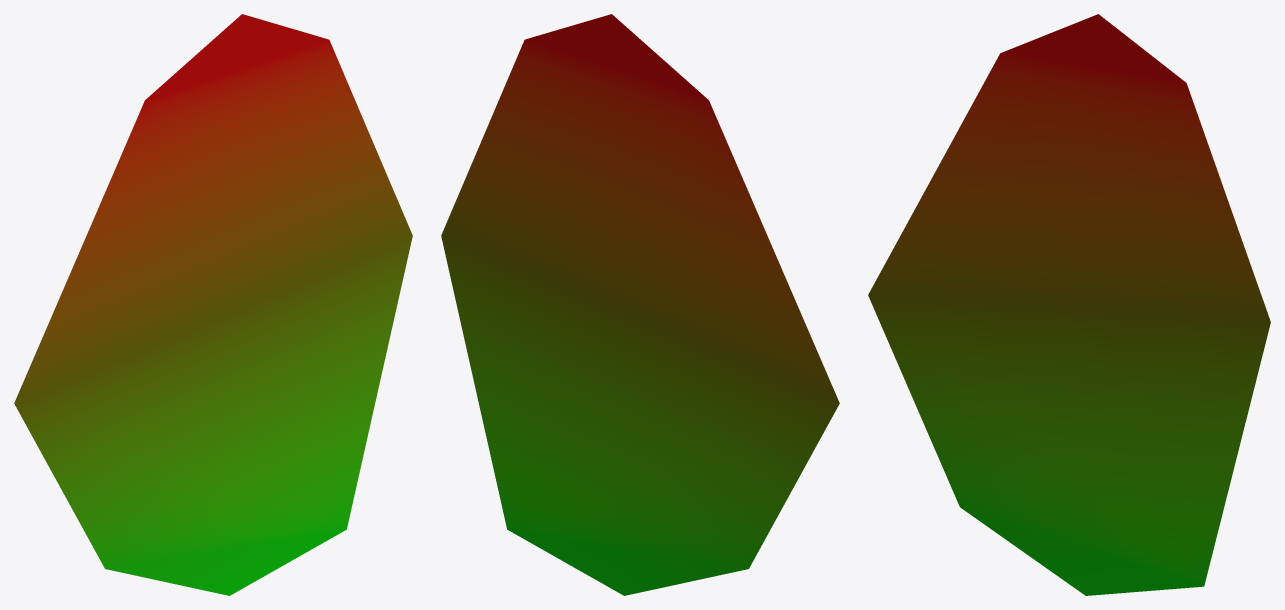
Rendered from Var3_LOD5.fbx.
3 renders of one model, left to right at view 1: azimuth 30°, elevation 25°; view 2: azimuth 150°, elevation 25°; view 3: azimuth 330°, elevation 25°, orthographic.
Visible parts, largest first — view 1: _4bff_Var3_LOD5; view 2: _4bff_Var3_LOD5; view 3: _4bff_Var3_LOD5.
Boxes of the visible parts, left/top/right/bottom form: _4bff_Var3_LOD5: left=14, top=14, right=412, bottom=595; _4bff_Var3_LOD5: left=441, top=14, right=839, bottom=595; _4bff_Var3_LOD5: left=868, top=14, right=1270, bottom=595.
Bounding box in the file's own units: 34.4 × 47.73 × 2.62e-06.
